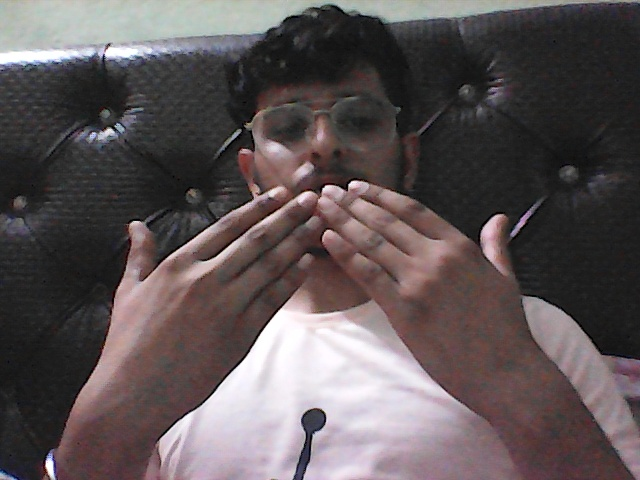thankyou: (59, 184, 571, 431)
